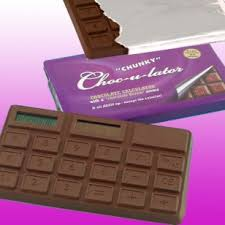Chocolate: (7, 101, 188, 225)
